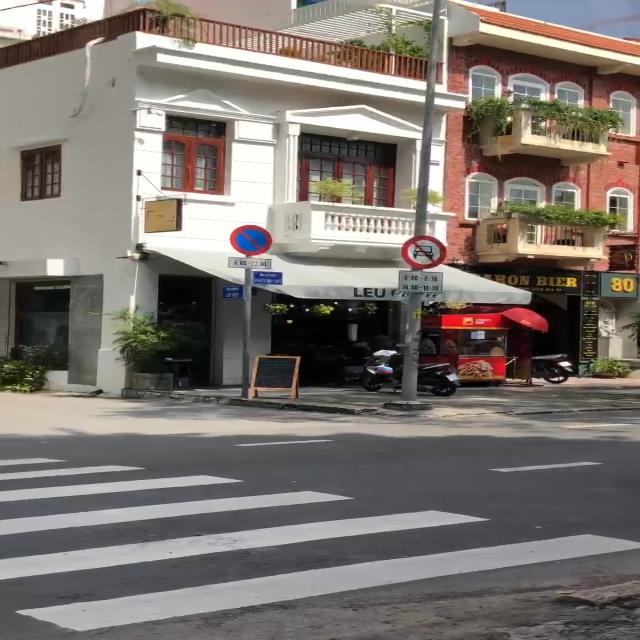Bien bao cam do xe: (230, 224, 275, 257)
Bien bao cam xe oto: (396, 233, 454, 269)
